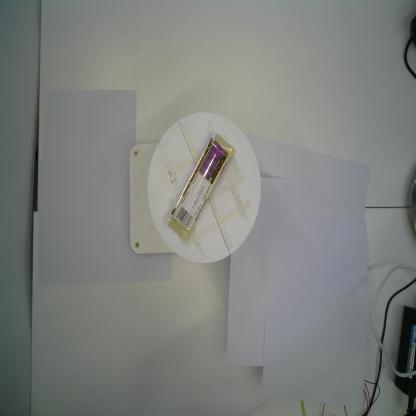Chocolate: (164, 131, 236, 244)
